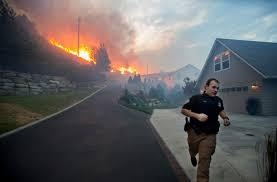fire: (49, 34, 96, 64)
